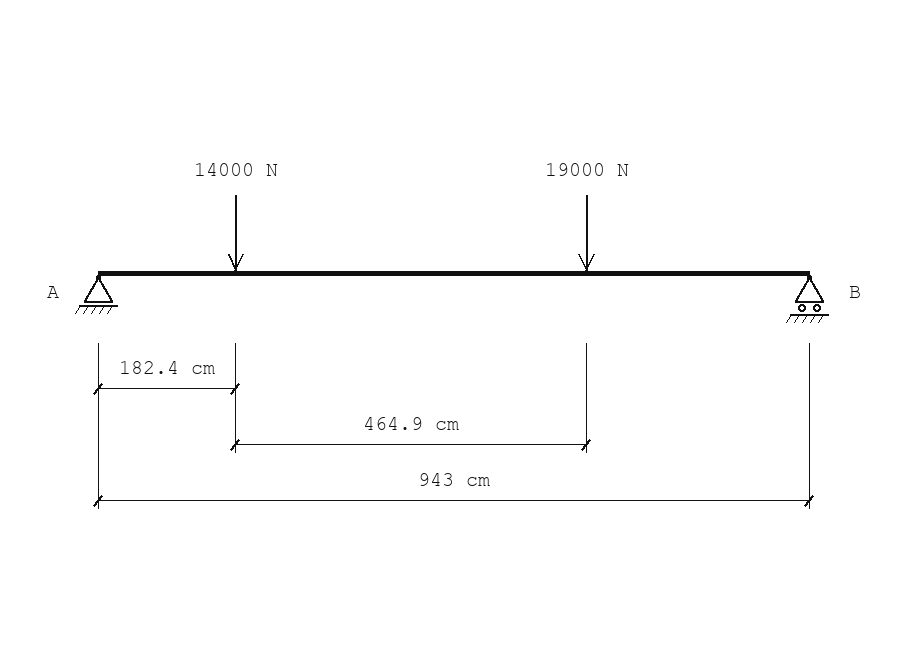pin_support: (75, 275, 118, 314)
point_load: (578, 195, 595, 271), (228, 195, 244, 271)
roller_support: (786, 275, 829, 323)
